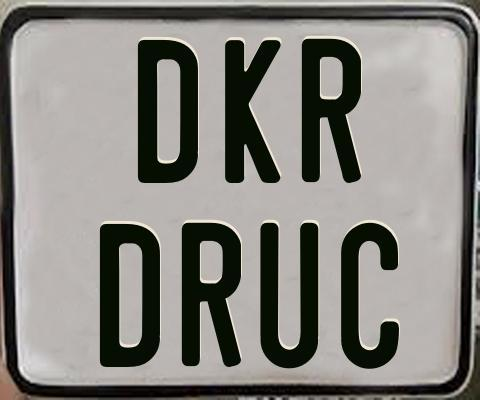C: (338, 220, 396, 368)
D: (136, 38, 200, 183), (98, 221, 161, 364)
K: (225, 37, 286, 180)
R: (180, 220, 244, 365), (300, 36, 359, 186)
U: (259, 221, 323, 371)
